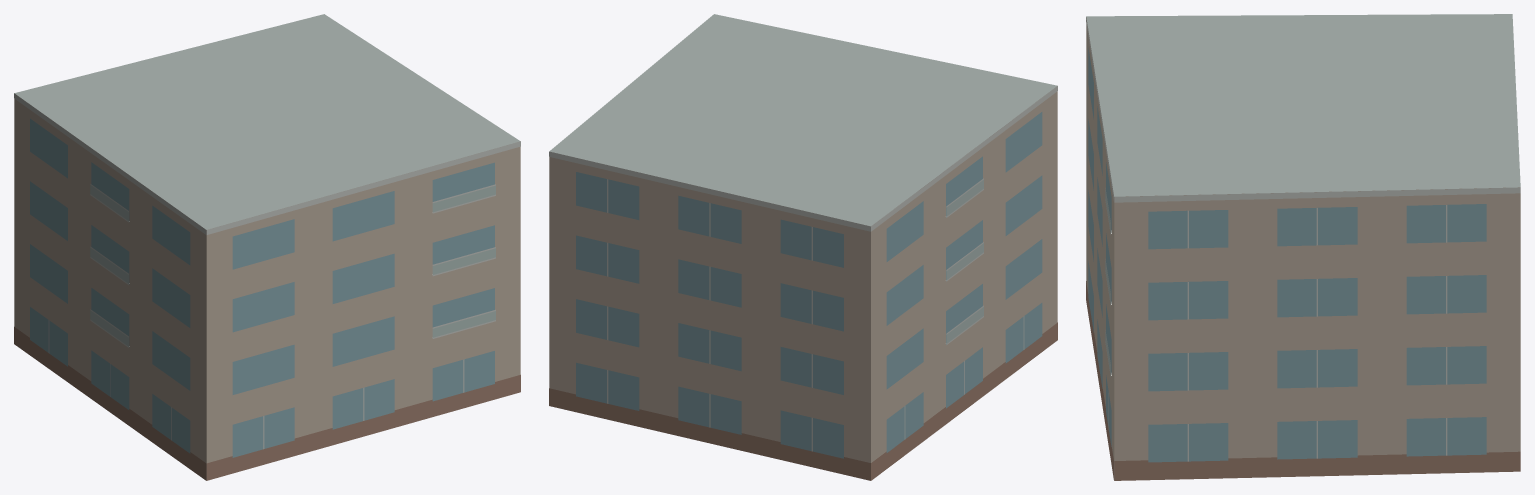
File: survey-upis-32772862.glb
The picture shows the model from 3 angles, left to right: view 1: azimuth 30°, elevation 25°; view 2: azimuth 150°, elevation 25°; view 3: azimuth 270°, elevation 25°; orthographic projection. The views are drawn at different scales.
Visible parts, largest first — view 1: survey-upis-32772862.tmp; view 2: survey-upis-32772862.tmp; view 3: survey-upis-32772862.tmp.
Boxes of the visible parts, box(x1,y1,x2,y2) form: survey-upis-32772862.tmp: box(14, 14, 520, 480); survey-upis-32772862.tmp: box(549, 14, 1057, 480); survey-upis-32772862.tmp: box(1086, 14, 1520, 480).
Size of the model in its own units: 16.01 by 11.6 by 16.08.
